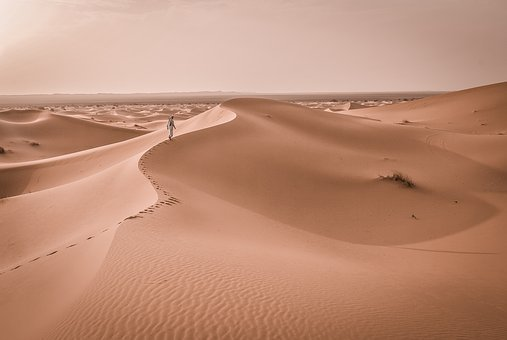ground: (1, 93, 504, 338)
sky: (1, 3, 500, 92)
